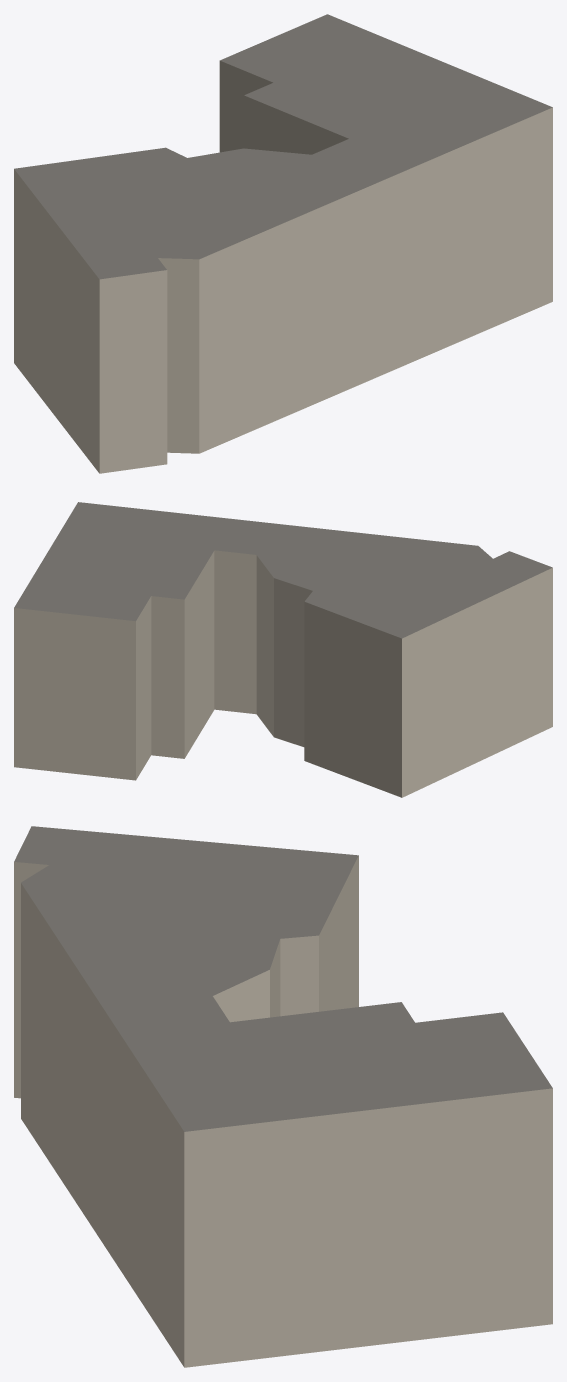
3 renders of one model, top to bottom at view 1: azimuth 30°, elevation 25°; view 2: azimuth 150°, elevation 25°; view 3: azimuth 270°, elevation 25°, orthographic. The views are drawn at different scales.
Visible parts, largest first — view 1: HP-w1327459752; view 2: HP-w1327459752; view 3: HP-w1327459752.
Part boxes in pixels (<box>): HP-w1327459752: <box>14,14,552,473</box>; HP-w1327459752: <box>14,502,552,797</box>; HP-w1327459752: <box>14,826,552,1367</box>.
Size of the model in its own units: 50.04 by 18 by 37.28.
